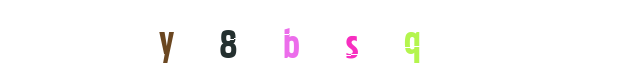8: (188, 0, 268, 80)
B: (273, 0, 353, 80)
Q: (338, 0, 418, 80)
S: (274, 0, 354, 80)
Y: (134, 0, 214, 80)
